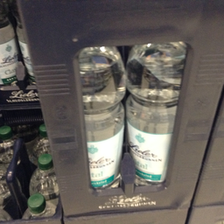water: (127, 45, 183, 184), (77, 48, 127, 189)
